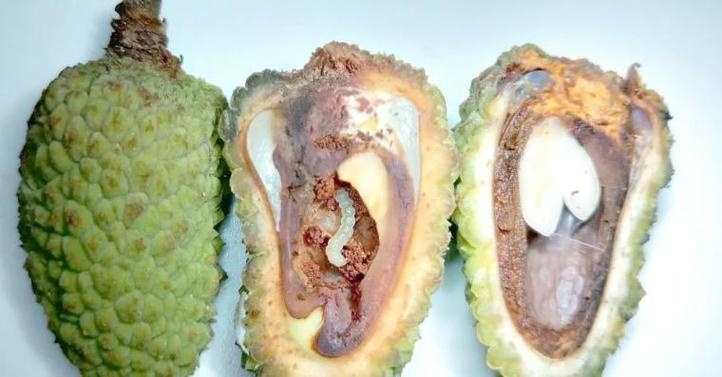Borer: (547, 161, 595, 252), (312, 173, 351, 272)
